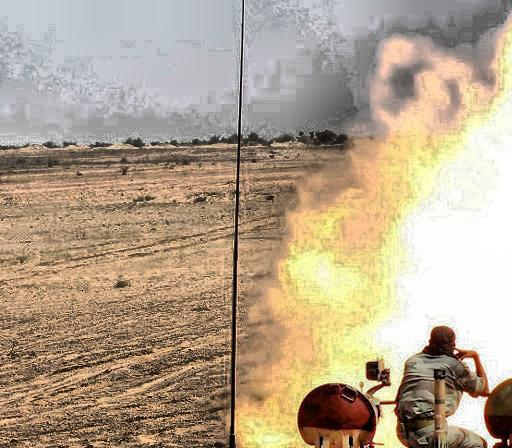tanks: (299, 385, 383, 448), (485, 381, 512, 448)
